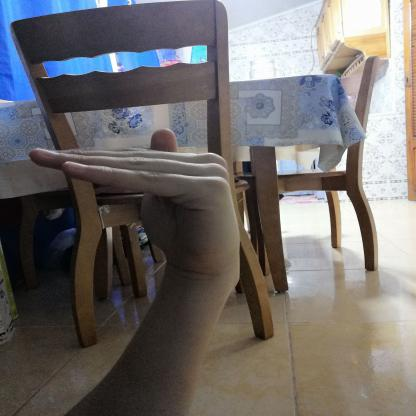KHAA: (9, 119, 248, 284)
